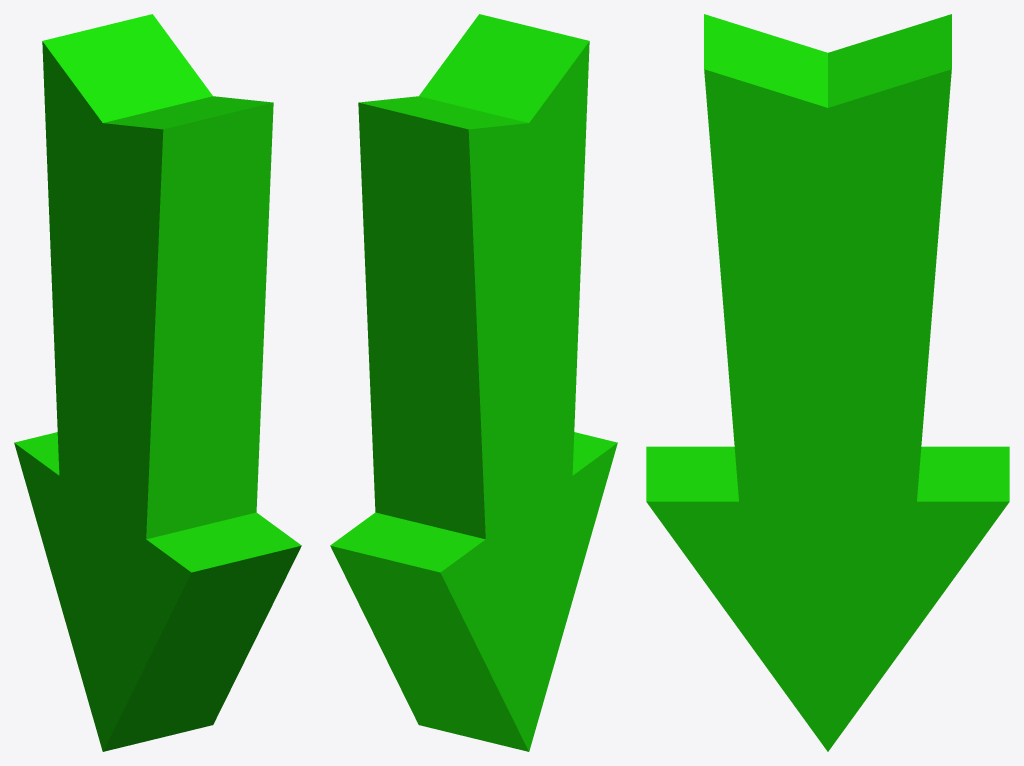
File: flecha.fbx
3 renders of one model, left to right at view 1: azimuth 30°, elevation 25°; view 2: azimuth 150°, elevation 25°; view 3: azimuth 270°, elevation 25°, orthographic. The views are drawn at different scales.
Parts seen in each view (by area): view 1: Cube; view 2: Cube; view 3: Cube.
Part boxes in pixels (left/top/right/bottom): Cube: left=14, top=14, right=301, bottom=751; Cube: left=330, top=14, right=617, bottom=751; Cube: left=646, top=14, right=1009, bottom=751.
Size of the model in its own units: 105 by 608 by 293.
